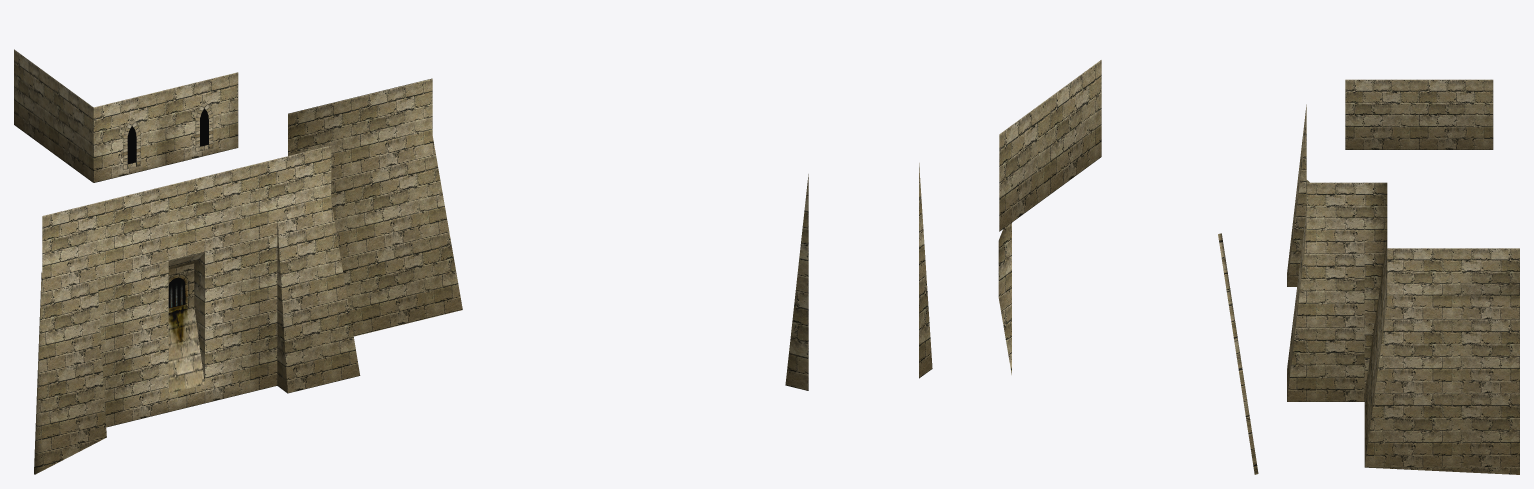
Rendered from Mission12_ExteriorWalls01.glb.
The picture shows the model from 3 angles, left to right: view 1: azimuth 30°, elevation 25°; view 2: azimuth 150°, elevation 25°; view 3: azimuth 270°, elevation 25°; orthographic projection. The views are drawn at different scales.
Parts seen in each view (by area): view 1: MISSION12_EXTERIORWALLS01; view 2: MISSION12_EXTERIORWALLS01; view 3: MISSION12_EXTERIORWALLS01.
Part boxes in pixels (x1,y1,x2,y2): MISSION12_EXTERIORWALLS01: (14,49,462,474); MISSION12_EXTERIORWALLS01: (785,60,1258,474); MISSION12_EXTERIORWALLS01: (1287,79,1519,474).
Bounding box in the file's own units: 26 × 17.05 × 12.
Materials: 3 (3 with a texture image).
